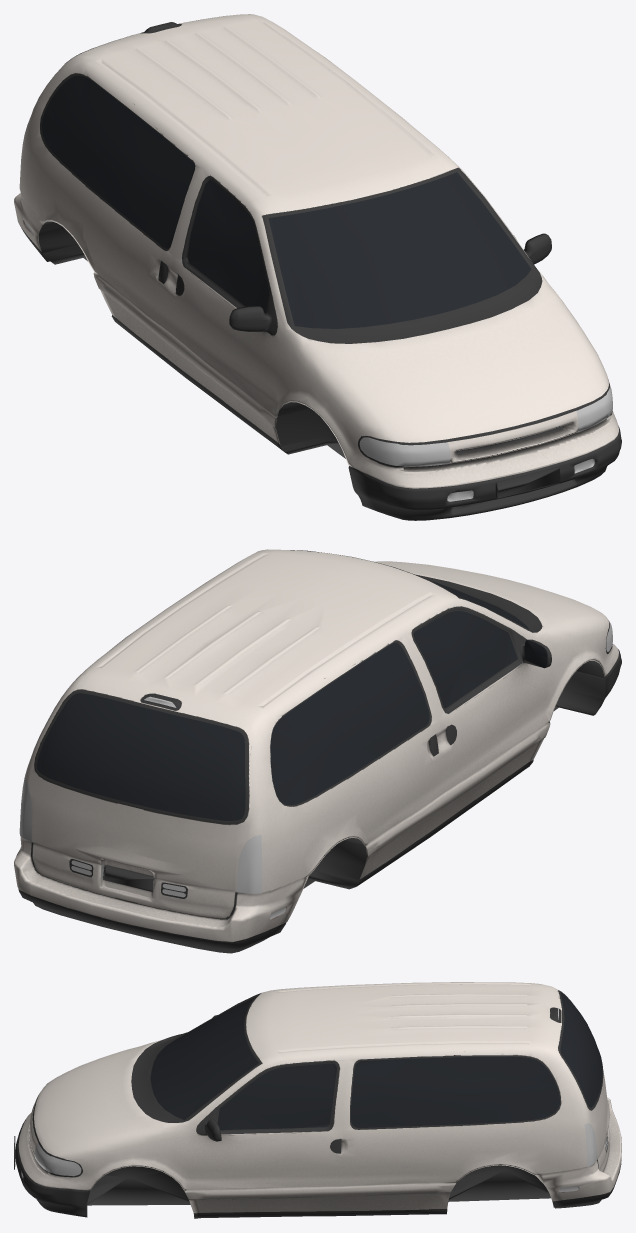
The model's file is car_0009.fbx.
3 views of the same model, one above another, from view 1: azimuth 30°, elevation 25°; view 2: azimuth 150°, elevation 25°; view 3: azimuth 270°, elevation 25° (orthographic). The views are drawn at different scales.
Parts seen in each view (by area): view 1: car_main; view 2: car_main; view 3: car_main.
Boxes of the visible parts, x1,y1,x2,y2 form: car_main: (14, 14, 621, 520); car_main: (14, 549, 621, 953); car_main: (14, 982, 621, 1218).
Bounding box in the file's own units: 207 × 140 × 459.
